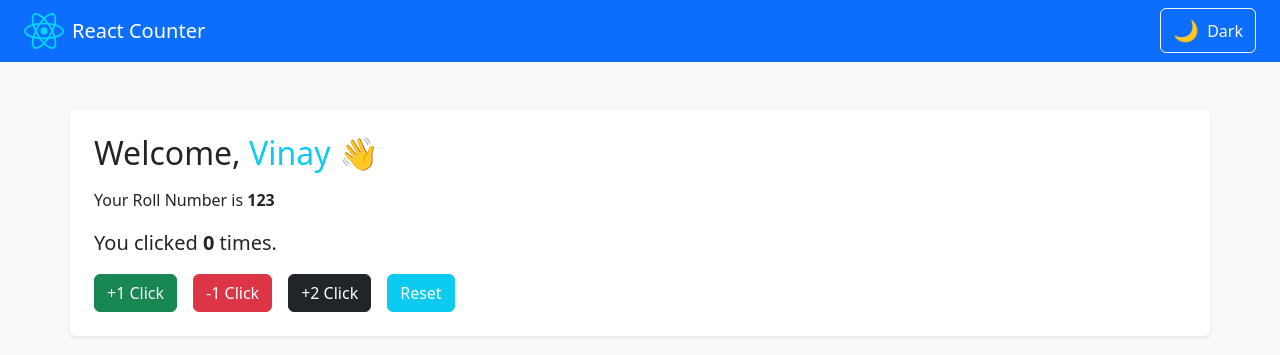
Test: NavBar Component › increments and decrements the count
Expected: the text "You clicked 0 times." is shown, 94,229 -> 277,256
# Increment by 1
Click the button "+1 Click".
click(136, 293)  # box 94,274 -> 177,312
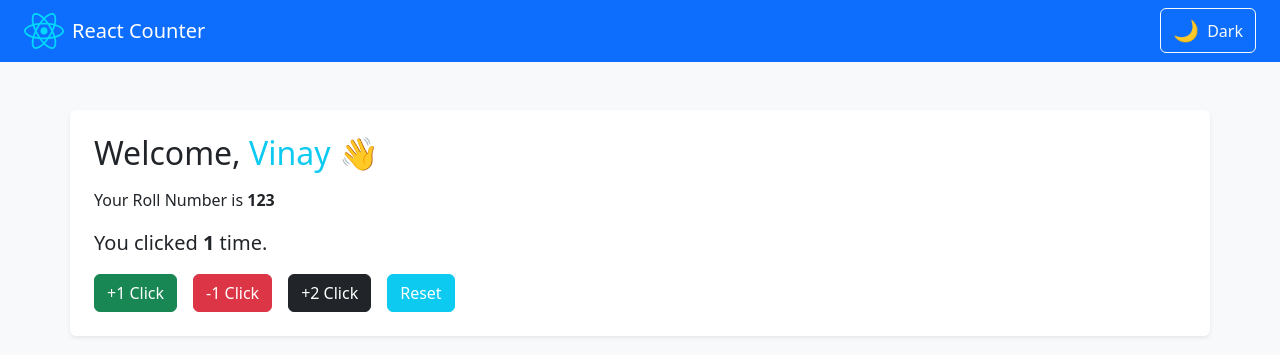
Expected: the text "You clicked 1 time." is shown, 94,229 -> 267,256
# Decrement by 1
Click the button "-1 Click".
click(233, 293)  # box 193,274 -> 272,312
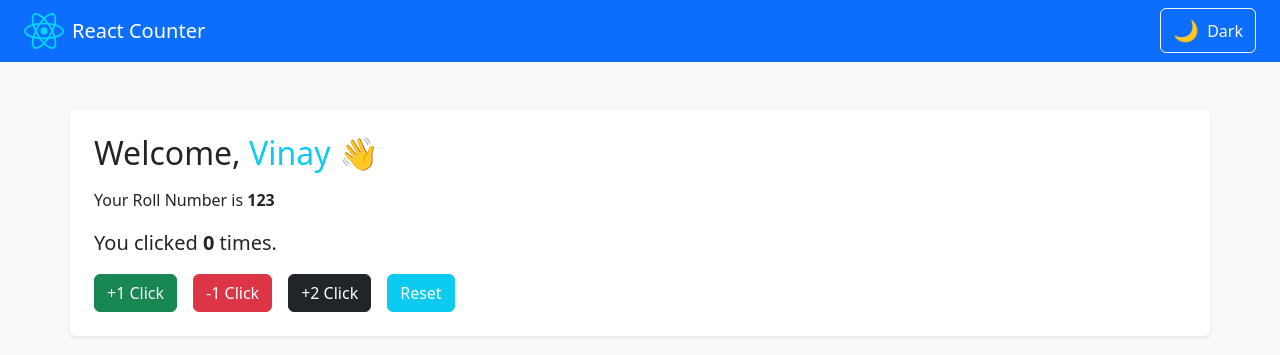
Expected: the text "You clicked 0 times." is shown, 94,229 -> 277,256
